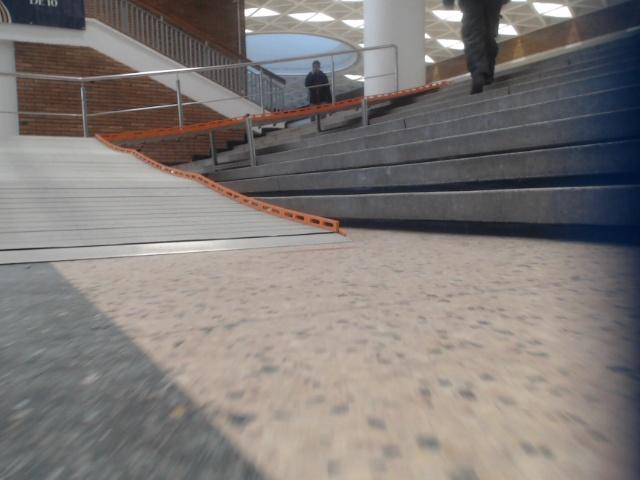rampUp: (0, 138, 346, 264)
ramps-railing: (0, 43, 399, 135)
